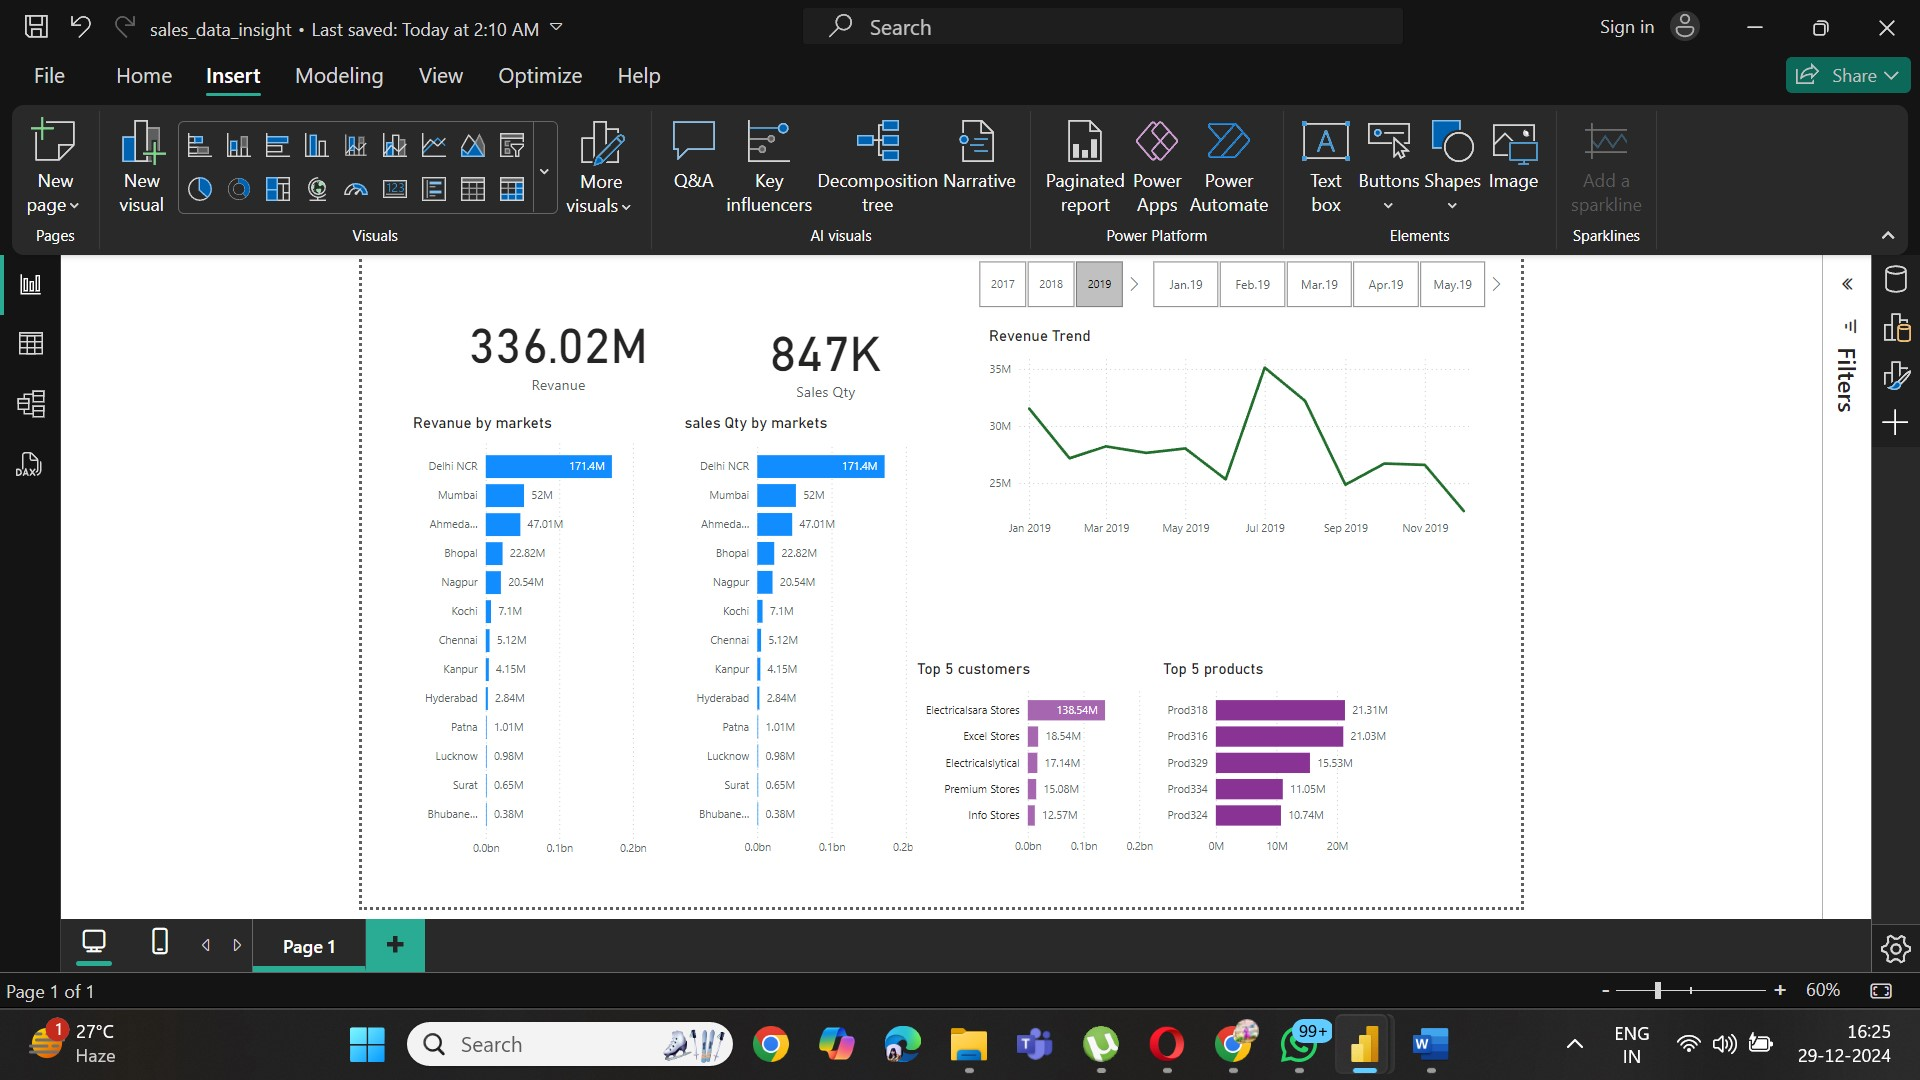

What the dashboard file says about the page in this screenshot:
{"tool":"powerbi","page":{"name":"Page 1","canvas":[1280,720],"ordinal":0},"visuals":[{"type":"card","fields":{"Values":["BaseMeasures.Revanue"]},"box":[64,48,304,112],"z":0},{"type":"card","fields":{"Values":["BaseMeasures.Sales Qty"]},"box":[368,48,288,128],"z":1000},{"type":"barChart","title":"Revanue by markets","fields":{"Y":["BaseMeasures.Revanue"],"Category":["sales markets.markets_name"]},"box":[64,176,288,496],"z":2000},{"type":"barChart","title":"sales Qty by markets","fields":{"Y":["BaseMeasures.Revanue"],"Category":["sales markets.markets_name"]},"box":[352,176,288,496],"z":3000},{"type":"slicer","fields":{"Values":["sales date.cy_date"]},"box":[848,0,416,64],"z":4000},{"type":"slicer","fields":{"Values":["sales date.year"]},"box":[656,0,208,64],"z":5000},{"type":"barChart","title":"Top 5 customers","fields":{"Y":["BaseMeasures.Revanue"],"Category":["sales customers.custmer_name"]},"box":[608,448,272,224],"z":6000},{"type":"barChart","title":"Top 5 products","fields":{"Y":["BaseMeasures.Revanue"],"Category":["sales transactions.product_code"]},"box":[880,448,272,224],"z":7000},{"type":"lineChart","title":"Revenue Trend","fields":{"Y":["BaseMeasures.Revanue"],"Category":["sales date.cy_date.Variation.Date Hierarchy.Year","sales date.cy_date.Variation.Date Hierarchy.Quarter","sales date.cy_date.Variation.Date Hierarchy.Month","sales date.cy_date.Variation.Date Hierarchy.Day"]},"box":[688,80,560,240],"z":8000}]}

Visuals, with their boxes on the page's 1280x720 design canvas (x1, y1, x2, y2). These are canvas units, not pixel positions in the 1920x1080 screenshot, which may show the page scaled, cropped or inside an application window:
card - BaseMeasures.Revanue: BBox(64, 48, 368, 160)
card - BaseMeasures.Sales Qty: BBox(368, 48, 656, 176)
"Revanue by markets" barChart: BBox(64, 176, 352, 672)
"sales Qty by markets" barChart: BBox(352, 176, 640, 672)
slicer - sales date.cy_date: BBox(848, 0, 1264, 64)
slicer - sales date.year: BBox(656, 0, 864, 64)
"Top 5 customers" barChart: BBox(608, 448, 880, 672)
"Top 5 products" barChart: BBox(880, 448, 1152, 672)
"Revenue Trend" lineChart: BBox(688, 80, 1248, 320)
